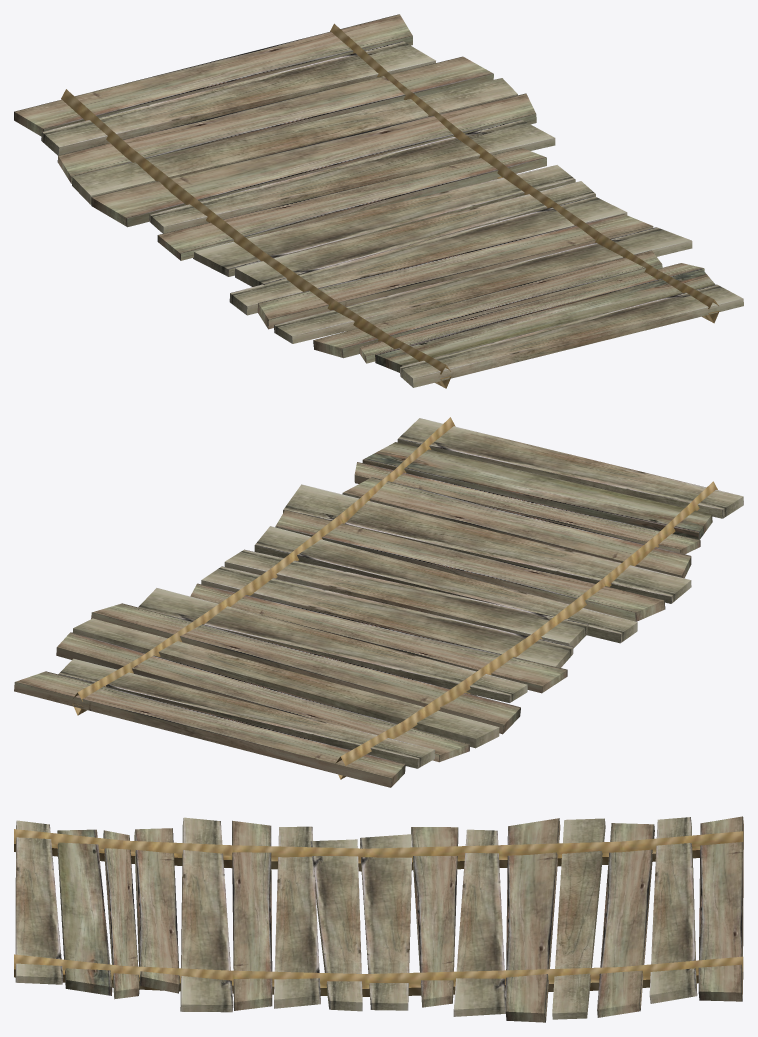
Rendered from shanty_rope_bridge.fbx.
3 views of the same model, one above another, from view 1: azimuth 30°, elevation 25°; view 2: azimuth 150°, elevation 25°; view 3: azimuth 270°, elevation 25° (orthographic). The views are drawn at different scales.
Parts seen in each view (by area): view 1: plank_top_012, plank_top_014, plank_top_016, plank_top_013, plank_top_015, plank_top_011, plank_top_09, plank_top_07, plank_top_05, plank_top_010, plank_top_06, plank_top_08 (+19 smaller); view 2: plank_top_05, plank_top_012, plank_top_011, plank_top_02, plank_top_09, plank_top_04, plank_top_014, plank_top_01, plank_top_06, plank_top_07, plank_top_08, plank_top_010 (+22 smaller); view 3: plank_top_012, plank_top_05, plank_top_014, rope4, plank_top_011, plank_top_09, plank_top_013, plank_top_016, plank_top_06, plank_top_015, plank_top_07, plank_top_010 (+24 smaller).
Part boxes in pixels (<box>): plank_top_012: <box>91,93,535,218</box>; plank_top_014: <box>58,56,493,176</box>; plank_top_016: <box>14,14,412,129</box>; plank_top_013: <box>72,78,517,195</box>; plank_top_015: <box>42,41,435,147</box>; plank_top_011: <box>150,119,554,226</box>; plank_top_09: <box>194,165,574,269</box>; plank_top_07: <box>230,196,626,306</box>; plank_top_05: <box>274,227,691,336</box>; plank_top_010: <box>158,148,546,253</box>; plank_top_06: <box>258,214,652,319</box>; plank_top_08: <box>235,181,595,284</box>; plank_top_05: <box>283,484,690,596</box>; plank_top_012: <box>92,603,520,724</box>; plank_top_011: <box>138,588,527,695</box>; plank_top_02: <box>363,442,711,532</box>; plank_top_09: <box>202,566,572,666</box>; plank_top_04: <box>343,477,691,575</box>; plank_top_014: <box>57,632,469,755</box>; plank_top_01: <box>398,418,743,509</box>; plank_top_06: <box>275,510,664,612</box>; plank_top_07: <box>255,526,637,633</box>; plank_top_08: <box>225,549,588,643</box>; plank_top_010: <box>190,583,567,686</box>; plank_top_012: <box>505,818,559,1013</box>; plank_top_05: <box>181,817,233,1004</box>; plank_top_014: <box>597,823,654,1009</box>; rope4: <box>14,829,743,859</box>; plank_top_011: <box>453,829,505,1009</box>; plank_top_09: <box>360,834,412,1003</box>; plank_top_013: <box>552,818,604,1013</box>; plank_top_016: <box>698,816,742,992</box>; plank_top_06: <box>232,820,272,1002</box>; plank_top_015: <box>649,817,696,994</box>; plank_top_07: <box>274,826,320,999</box>; plank_top_010: <box>411,827,458,999</box>.
Bounding box in the file's own units: 2877 × 285 × 4428.
Materials: 2 (2 with a texture image).
